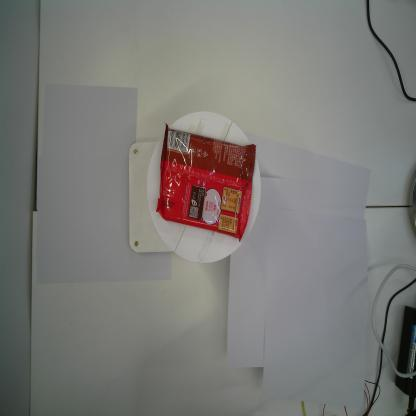Dessert: (156, 121, 258, 244)
